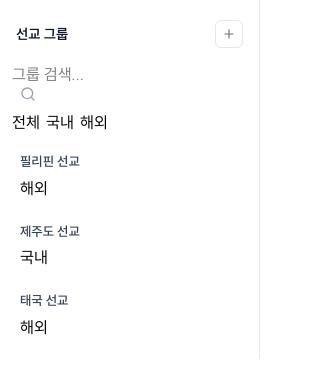
Test: GroupPanel › 검색어를 입력하면 일치하는 그룹만 표시한다
The image size is (320, 376).
Type "필리핀" into the field with placeholder "그룹 검색..." at x=154, y=74, box [12,62,297,86]
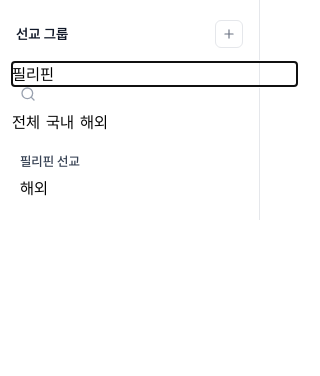
Expected: the text "필리핀 선교" is shown, [20,153,80,169]
Now the link "제주도 선교" is gone
Now the link "태국 선교" is gone
